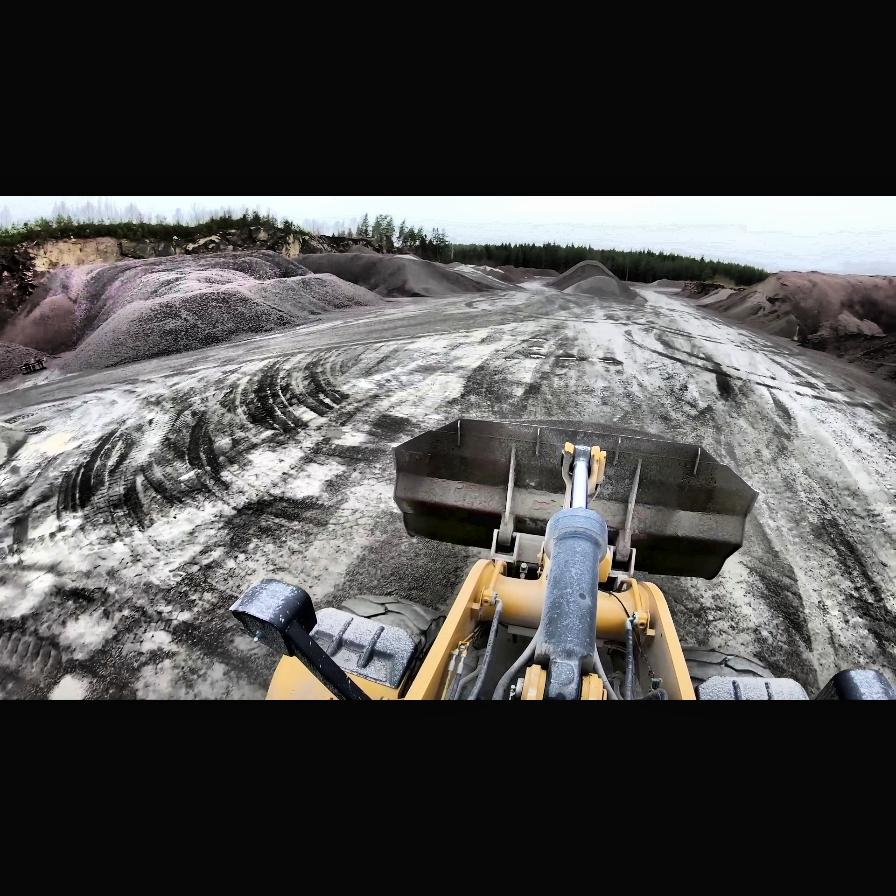anchor: (561, 442, 607, 509)
pile of gravel: (2, 248, 414, 376), (306, 251, 478, 298), (542, 260, 638, 298), (698, 282, 784, 324), (652, 279, 691, 289)
